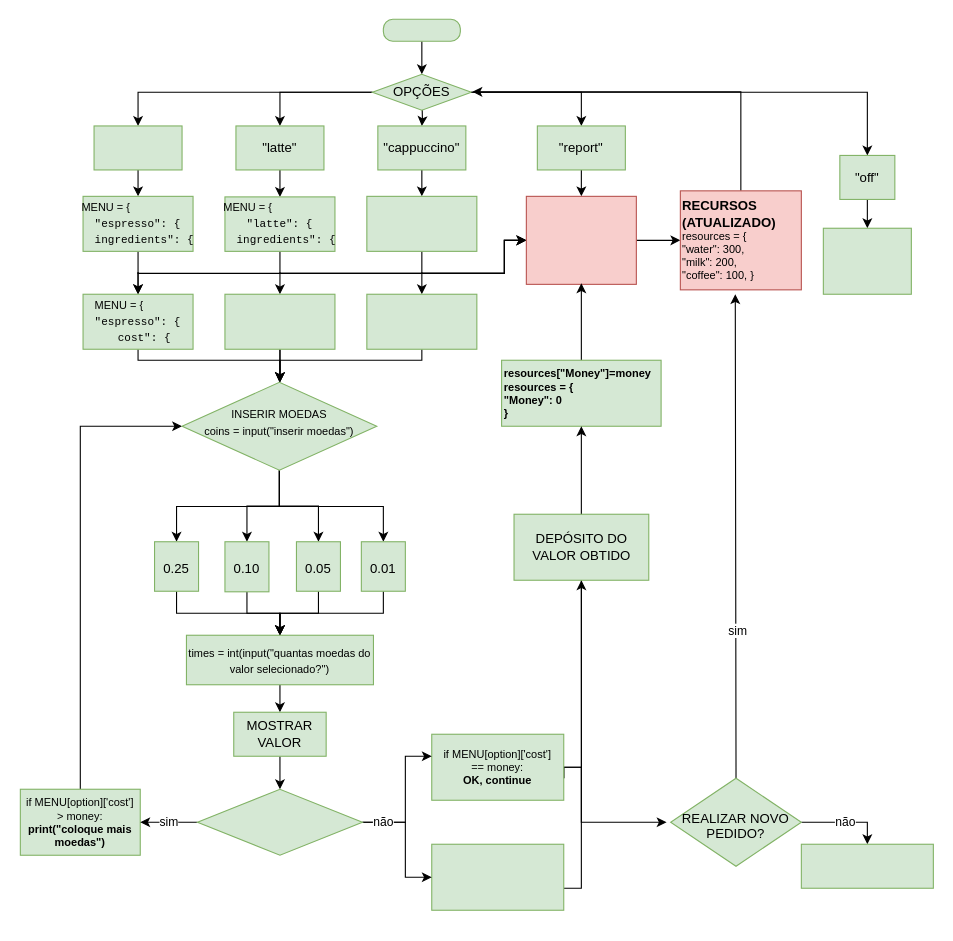
Some shapes in this 953 by 941 pixel diagram are drawn without their labels. The centre of each missing label's shape, as x and y in pixels:
"espresso": the point at 137,147
if MENU [option]['cost'] < money: print("aqui está o seu troco"): the point at 497,876
INSERIR MAIS MOEDAS?: the point at 279,821
INÍCIO: the point at 421,29
MENU = { "cappuccino": { cost": {: the point at 421,321
MENU = { "cappuccino": { ingredients": {: the point at 421,223
MENU = { "latte": { cost": {: the point at 279,321
print("off") break: the point at 866,260
resources = { "water": 300, "milk": 200, "coffee": 100, }: the point at 580,239
SAIR DO PROGRAMA: the point at 866,865
